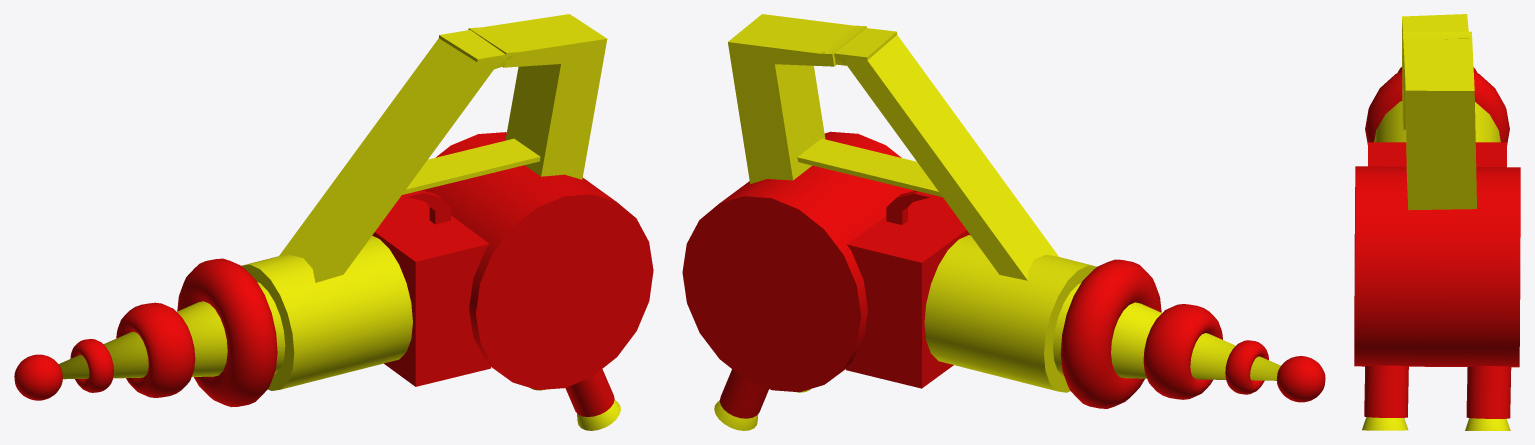
Rendered from Ray_Gun.fbx.
3 renders of one model, left to right at view 1: azimuth 30°, elevation 25°; view 2: azimuth 150°, elevation 25°; view 3: azimuth 270°, elevation 25°, orthographic. The views are drawn at different scales.
Parts seen in each view (by area): view 1: pCylinder5; view 2: pCylinder5; view 3: pCylinder5.
Boxes of the visible parts, x1,y1,x2,y2 form: pCylinder5: (14, 14, 653, 430); pCylinder5: (682, 14, 1325, 430); pCylinder5: (1354, 14, 1520, 430).
Size of the model in its own units: 13.58 by 8.45 by 3.44.
